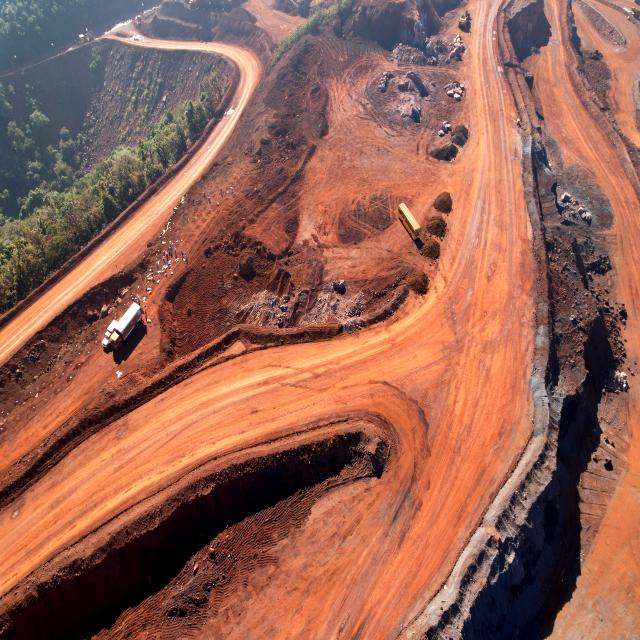Dumper truck: (79, 30, 95, 44)
Excavator: (458, 12, 470, 28), (462, 10, 472, 21)
person: (137, 294, 141, 303), (184, 251, 188, 260), (173, 247, 177, 255), (144, 308, 147, 316), (192, 198, 195, 205), (208, 196, 211, 203), (203, 191, 206, 197), (156, 266, 160, 270), (151, 272, 154, 277), (128, 302, 130, 308)
